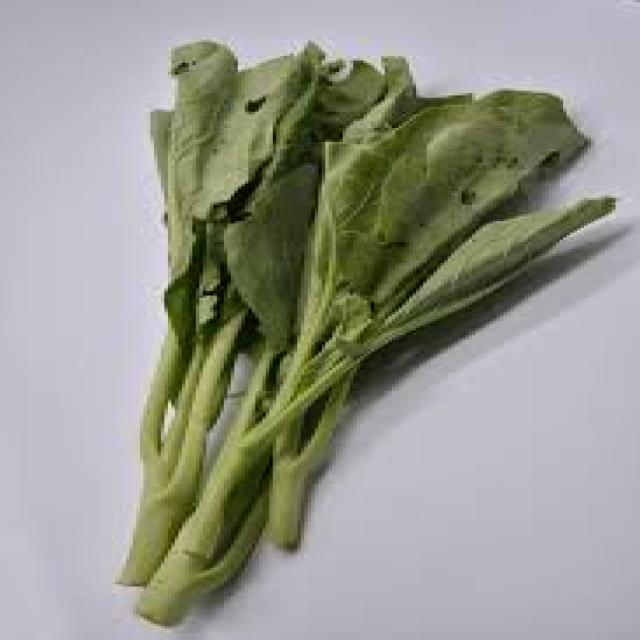collard: (116, 39, 620, 628)
